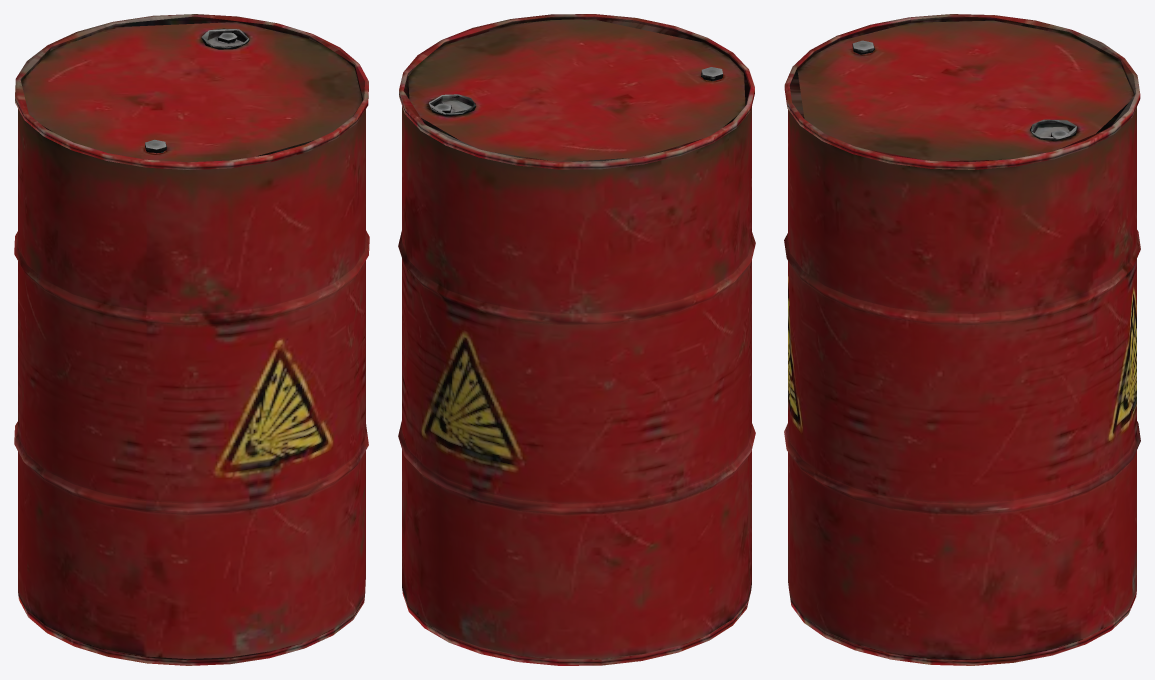
Rendered from Barrel_01_512.glb.
3 views of the same model, side by side, from view 1: azimuth 30°, elevation 25°; view 2: azimuth 150°, elevation 25°; view 3: azimuth 270°, elevation 25° (orthographic).
Parts seen in each view (by area): view 1: Barrel_01; view 2: Barrel_01; view 3: Barrel_01.
Part boxes in pixels (<box>): Barrel_01: <box>14,14,369,665</box>; Barrel_01: <box>398,14,755,665</box>; Barrel_01: <box>784,14,1140,665</box>.
Size of the model in its own units: 0.5627 by 0.8789 by 0.5627.
Materials: 1 (1 with a texture image).
